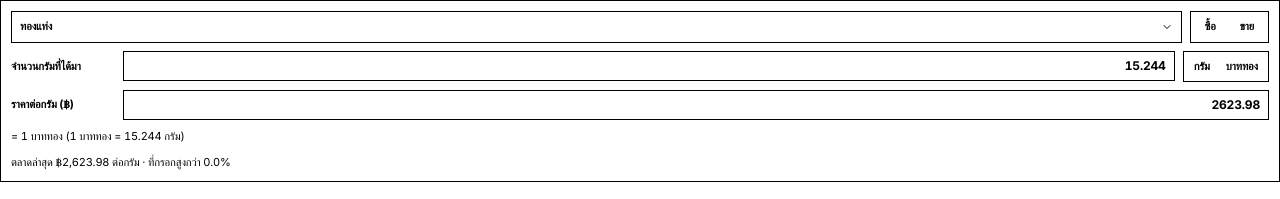
InvestFields — gold (grams in, baht-weight out) › ...and per baht-weight in that mode
Click the button "บาททอง": {"x": 1242, "y": 66} [1218,54,1266,79]
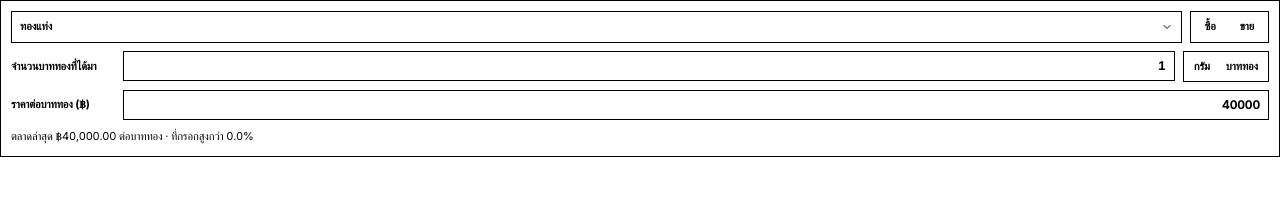
Result: the text "ตลาดล่าสุด ฿40,000.00 ต่อบาททอง" is shown at [11,129,254,143]
